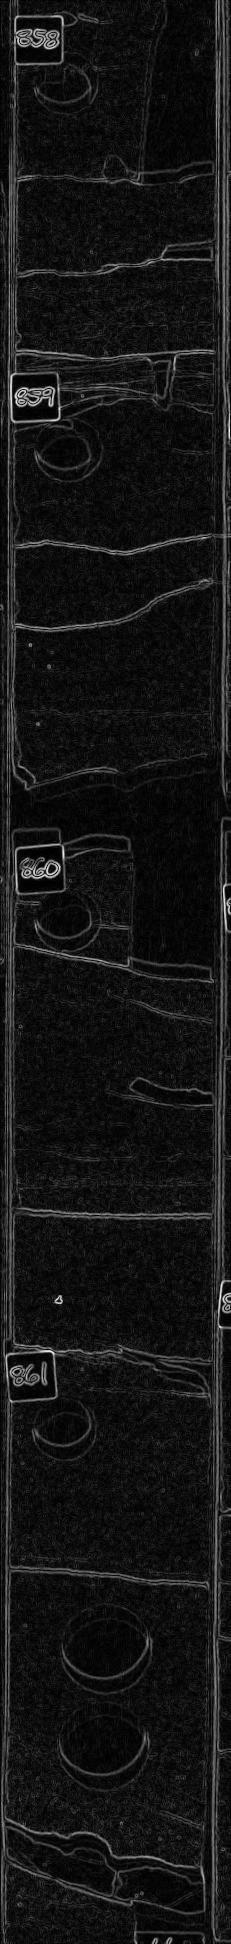hplug: (26, 1389, 102, 1465), (29, 412, 108, 485), (29, 43, 102, 117), (30, 885, 104, 955)
scal: (53, 1599, 160, 1695), (53, 1699, 156, 1796)
vplug: (128, 1, 214, 188), (120, 846, 212, 991), (138, 345, 190, 422)
